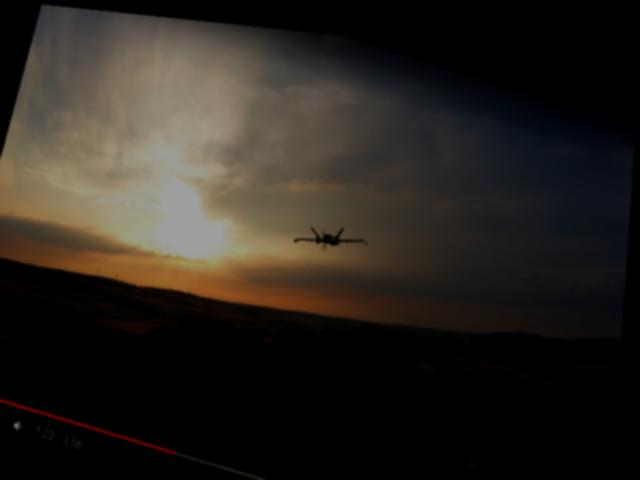plane: (297, 209, 372, 252)
